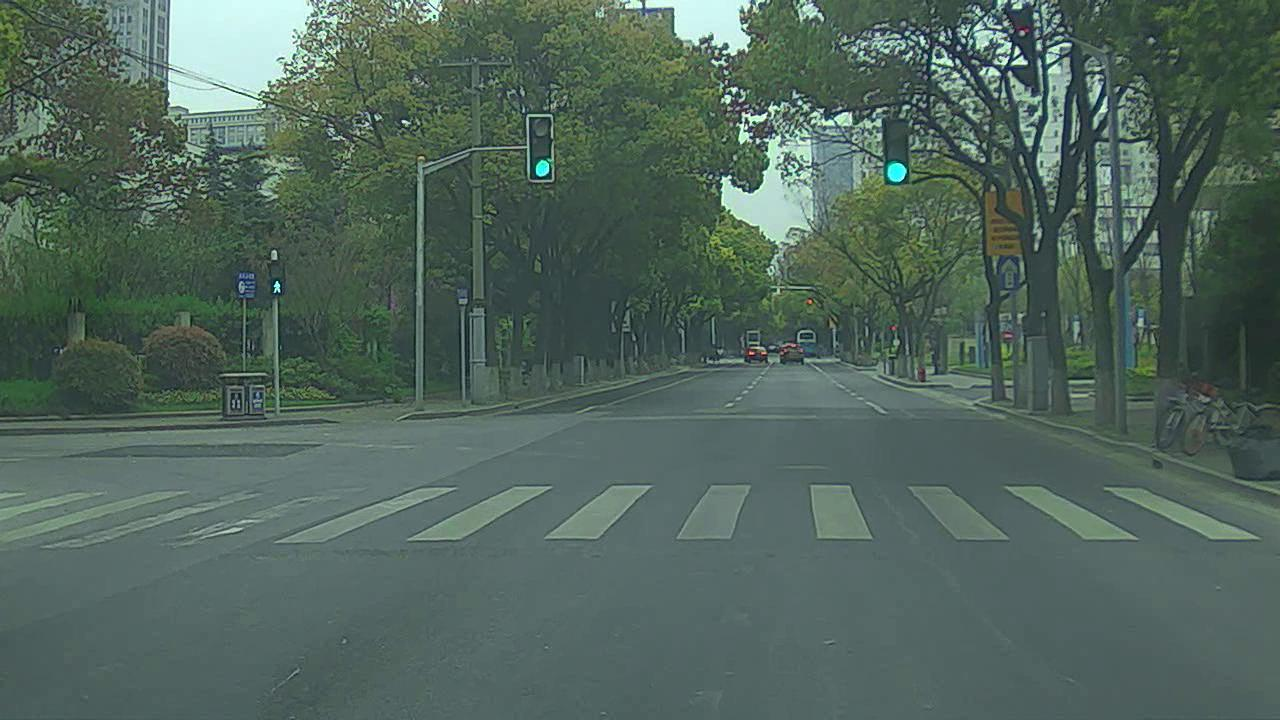traffic_light: (880, 115, 910, 182), (526, 114, 554, 185)
